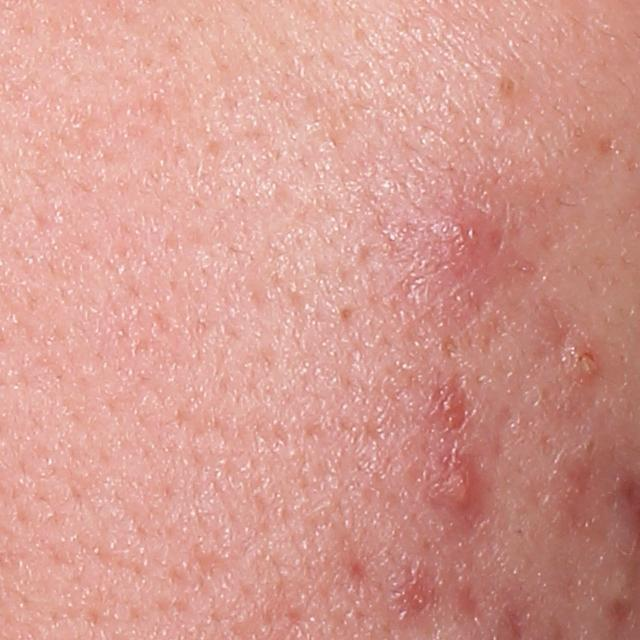atrophic_scar: (484, 398, 521, 479), (449, 575, 487, 629), (593, 130, 624, 156)
comedo: (487, 70, 527, 105), (335, 300, 355, 320)
papule: (390, 197, 506, 291), (435, 446, 484, 515), (393, 568, 445, 620), (562, 340, 597, 379)
